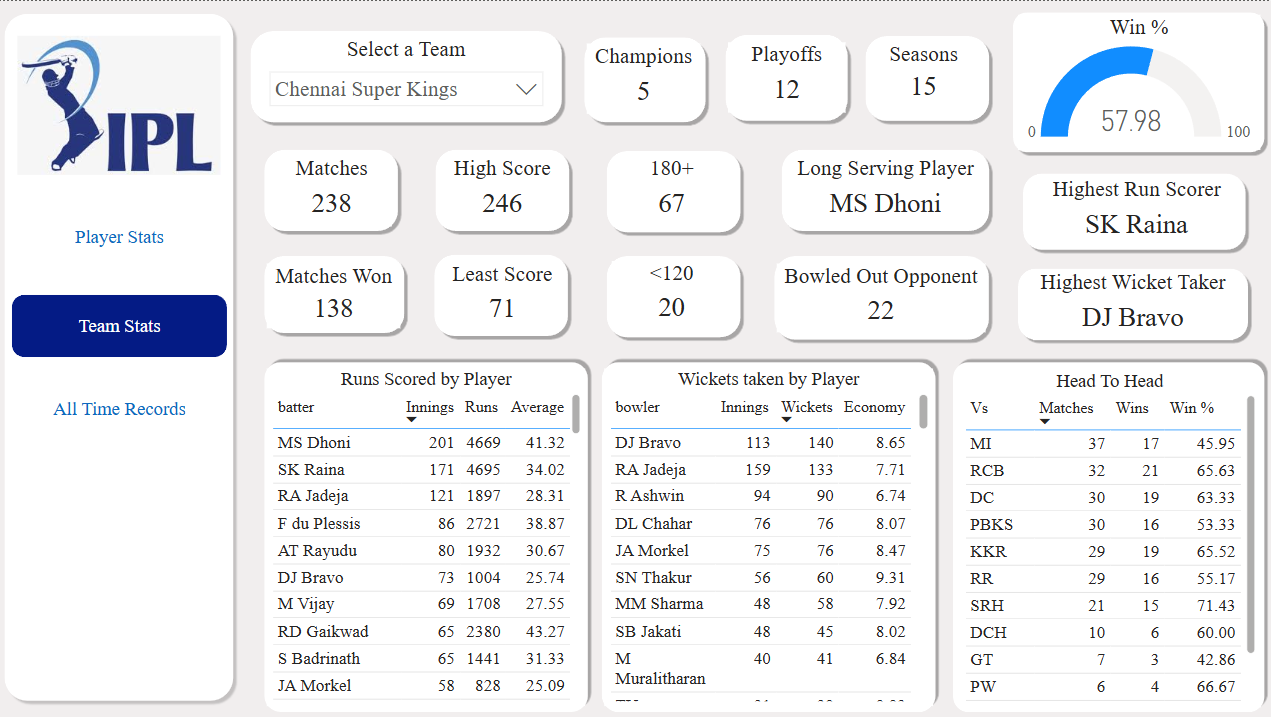

The dashboard page shown, as its layout file describes it:
{"tool":"powerbi","page":{"name":"Team","canvas":[1280,720],"ordinal":2},"visuals":[{"type":"shape","box":[0,6.7,241.7,700],"z":0},{"type":"actionButton","box":[13.5,377.9,215.2,59.9],"z":1000},{"type":"actionButton","box":[13.5,205.4,215.2,61.1],"z":2000},{"type":"image","box":[13.8,30,215,148.8],"z":3000},{"type":"actionButton","box":[13.5,293.5,215.2,62.4],"z":4000},{"type":"shape","box":[261.2,356.2,333.8,360],"z":5000},{"type":"shape","box":[598.8,356.2,343.8,360],"z":6000},{"type":"shape","box":[581.2,31.2,131.2,95],"z":7000},{"type":"card","title":"Champions ","fields":{"Values":["Sum(TeamStats.Champions)"]},"box":[588.8,42.5,113.8,70],"z":8000},{"type":"shape","box":[722.5,28.8,132.5,96.2],"z":9000},{"type":"card","title":"Playoffs","fields":{"Values":["Sum(TeamStats.Playoffs)"]},"box":[730,41.2,117.5,70],"z":10000},{"type":"shape","box":[862.5,30,133.8,95],"z":11000},{"type":"card","title":"Seasons","fields":{"Values":["Sum(TeamStats.Seasons)"]},"box":[873.8,41.2,103.8,63.8],"z":12000},{"type":"shape","box":[261.2,143.8,143.8,91.2],"z":13000},{"type":"shape","box":[261.2,250,150,87],"z":14000},{"type":"shape","box":[432.5,143.8,143.8,91.2],"z":15000},{"type":"shape","box":[431.2,248.8,143.8,91.2],"z":16000},{"type":"shape","box":[603.3,144.7,143.8,91.2],"z":17000},{"type":"shape","box":[603.3,249.7,143.8,91.2],"z":18000},{"type":"shape","box":[778.8,143.8,217.5,91.2],"z":19000},{"type":"shape","box":[771.2,250,225,93.8],"z":20000},{"type":"shape","box":[1020,167.5,232.5,86.2],"z":21000},{"type":"shape","box":[1015,262.5,240,81.2],"z":22000},{"type":"card","title":"Matches","fields":{"Values":["Sum(TeamStats.Matches Played)"]},"box":[273.8,155,120,70],"z":23000},{"type":"card","title":"High Score","fields":{"Values":["Sum(TeamStats.Highest_Score)"]},"box":[446.2,155,116.2,70],"z":24000},{"type":"card","title":"Matches Won","fields":{"Values":["Sum(TeamStats.Matches Won)"]},"box":[268.8,262.5,133.8,65],"z":25000},{"type":"card","title":"Least Score","fields":{"Values":["Sum(TeamStats.Least_Score)"]},"box":[446.2,261.2,116.2,67.5],"z":26000},{"type":"card","title":"180+","fields":{"Values":["Sum(TeamStats.180+)"]},"box":[617.5,155,112.5,70],"z":27000},{"type":"card","title":"<120","fields":{"Values":["Sum(TeamStats.120-)"]},"box":[613.8,260,120,67.5],"z":28000},{"type":"card","title":"Long Serving Player","fields":{"Values":["Min(TeamStats.LongServingPlayer)"]},"box":[791.2,155,192.5,70],"z":29000},{"type":"card","title":"Bowled Out Opponent","fields":{"Values":["Sum(TeamStats.All_Out_Count)"]},"box":[778.8,262.5,208.8,68.8],"z":30000},{"type":"card","title":"Highest Run Scorer","fields":{"Values":["Min(TeamStats.HighestRunScorer)"]},"box":[1042.5,176.2,192.5,70],"z":31000},{"type":"card","title":"Highest Wicket Taker","fields":{"Values":["Min(TeamStats.HighestWicketTaker)"]},"box":[1035,268.8,200,70],"z":32000},{"type":"tableEx","title":"Runs Scored by Player","fields":{"Values":["PlayerBattingStats.batter","Sum(PlayerBattingStats.Matches Played)","Sum(PlayerBattingStats.Runs)","Sum(PlayerBattingStats.Average)"]},"box":[268.8,367.5,318.8,337.5],"z":33000},{"type":"tableEx","title":"Wickets taken by Player","fields":{"Values":["BowlerStatsTeam.bowler","Sum(BowlerStatsTeam.Matches Played)","Sum(BowlerStatsTeam.Wickets Taken)","Sum(BowlerStatsTeam.Economy)"]},"box":[606.2,367.5,328.8,337.5],"z":34000},{"type":"shape","box":[950,356.2,321.2,360],"z":35000},{"type":"tableEx","title":"Head To Head","fields":{"Values":["TeamMatchStatsWithShortOpponent.ShortOpponent","Sum(TeamMatchStatsWithShortOpponent.Matches Played)","Sum(TeamMatchStatsWithShortOpponent.Wins)","Sum(TeamMatchStatsWithShortOpponent.Win %)"]},"box":[961.2,368.8,301.2,337.5],"z":36000},{"type":"shape","box":[1010,6.2,261.2,150],"z":37000},{"type":"gauge","title":"Win %","fields":{"Y":["Sum(TeamStats.Win %)"],"MaxValue":["Sum(TeamStats.MaxWin%)"],"MinValue":["Sum(TeamStats.MinWin%)"]},"box":[1020,13.8,242.5,135],"z":38000},{"type":"shape","box":[247.5,25,321.2,101.2],"z":39000},{"type":"slicer","title":"Select a Team","fields":{"Values":["TeamStats.Team"]},"box":[261.2,36.2,293.8,75],"z":40000}]}

Visuals, with their boxes in screenshot pixels (x1, y1, x2, y2), scaled from the page's 1280x720 canvas onto the 1271x717 screenshot:
shape: Rect(0, 7, 240, 704)
actionButton: Rect(13, 376, 227, 436)
actionButton: Rect(13, 205, 227, 265)
image: Rect(14, 30, 227, 178)
actionButton: Rect(13, 292, 227, 354)
shape: Rect(259, 355, 591, 713)
shape: Rect(595, 355, 936, 713)
shape: Rect(577, 31, 707, 126)
"Champions " card: Rect(585, 42, 698, 112)
shape: Rect(717, 29, 849, 124)
"Playoffs" card: Rect(725, 41, 842, 111)
shape: Rect(856, 30, 989, 124)
"Seasons" card: Rect(868, 41, 971, 105)
shape: Rect(259, 143, 402, 234)
shape: Rect(259, 249, 408, 336)
shape: Rect(429, 143, 572, 234)
shape: Rect(428, 248, 571, 339)
shape: Rect(599, 144, 742, 235)
shape: Rect(599, 249, 742, 339)
shape: Rect(773, 143, 989, 234)
shape: Rect(766, 249, 989, 342)
shape: Rect(1013, 167, 1244, 253)
shape: Rect(1008, 261, 1246, 342)
"Matches" card: Rect(272, 154, 391, 224)
"High Score" card: Rect(443, 154, 558, 224)
"Matches Won" card: Rect(267, 261, 400, 326)
"Least Score" card: Rect(443, 260, 558, 327)
"180+" card: Rect(613, 154, 725, 224)
"<120" card: Rect(609, 259, 729, 326)
"Long Serving Player" card: Rect(786, 154, 977, 224)
"Bowled Out Opponent" card: Rect(773, 261, 981, 330)
"Highest Run Scorer" card: Rect(1035, 175, 1226, 245)
"Highest Wicket Taker" card: Rect(1028, 268, 1226, 337)
"Runs Scored by Player" tableEx: Rect(267, 366, 583, 702)
"Wickets taken by Player" tableEx: Rect(602, 366, 928, 702)
shape: Rect(943, 355, 1262, 713)
"Head To Head" tableEx: Rect(954, 367, 1254, 703)
shape: Rect(1003, 6, 1262, 156)
"Win %" gauge: Rect(1013, 14, 1254, 148)
shape: Rect(246, 25, 565, 126)
"Select a Team" slicer: Rect(259, 36, 551, 111)
